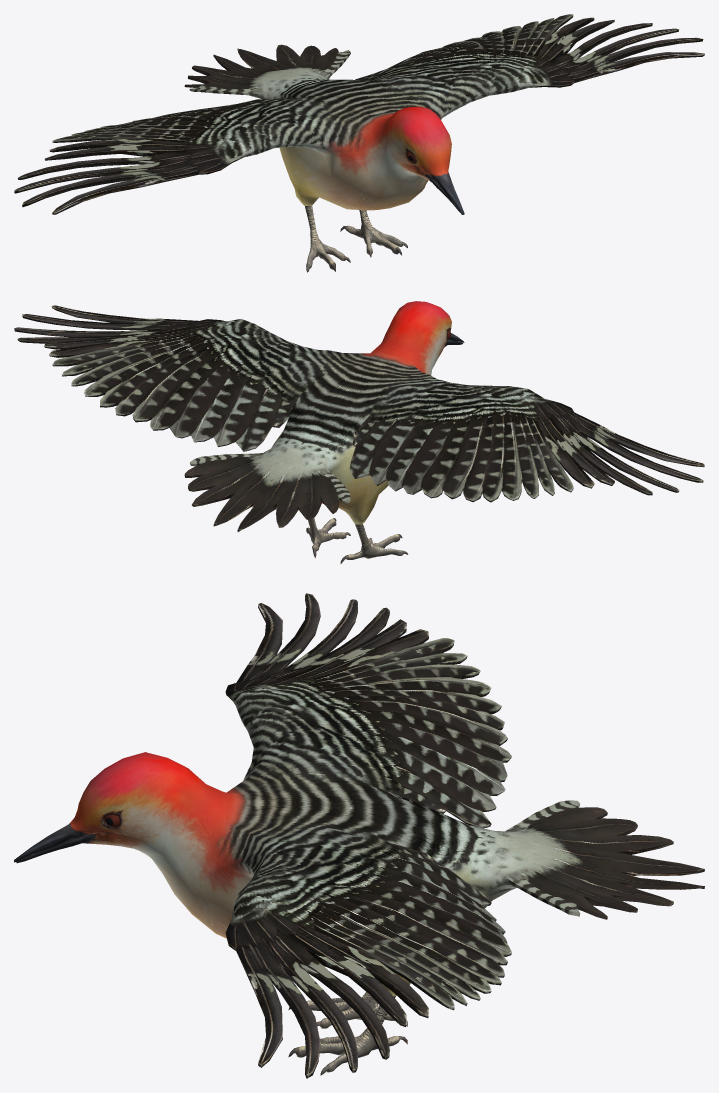
Rendered from Woodpecker.gltf.
3 renders of one model, top to bottom at view 1: azimuth 30°, elevation 25°; view 2: azimuth 150°, elevation 25°; view 3: azimuth 270°, elevation 25°, orthographic. The views are drawn at different scales.
Visible parts, largest first — view 1: sm_1_0_0; view 2: sm_1_0_0; view 3: sm_1_0_0.
Part boxes in pixels (<box>): sm_1_0_0: <box>14,14,704,272</box>; sm_1_0_0: <box>14,301,704,563</box>; sm_1_0_0: <box>14,593,704,1078</box>.
Size of the model in its own units: 0.3354 by 0.0912 by 0.203.
Materials: 1 (1 with a texture image).
